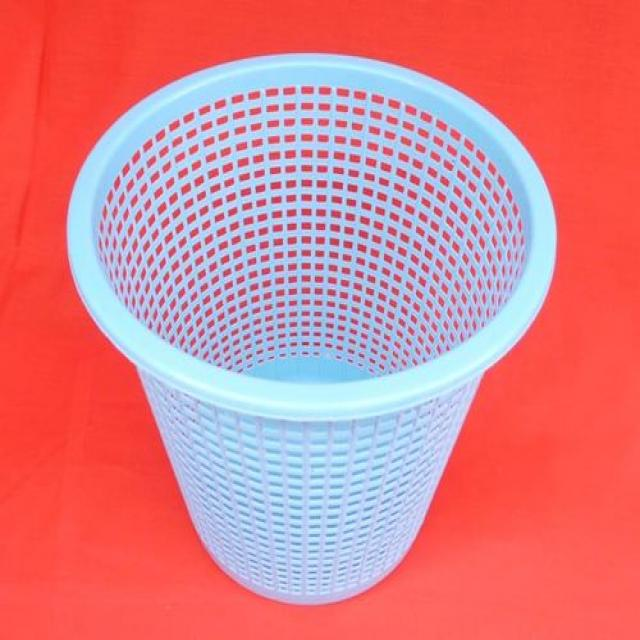Dustbin: (60, 40, 562, 613)
